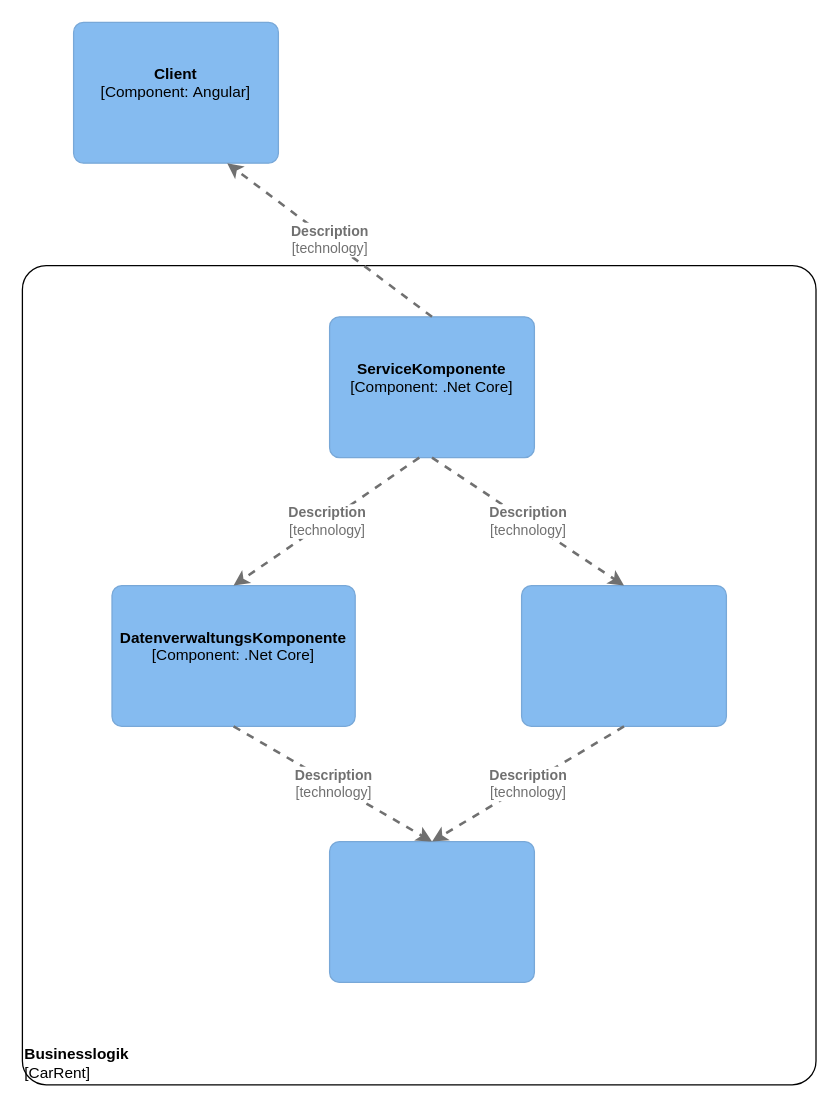
Some shapes in this 838 by 1107 pixel diagram are drawn without their labels. Each missing label, with the box of its shape:
DatenbankKomponente [Component: MySql ]: (328, 840, 534, 982)
ReservationsKomponente [Component: .Net Core ]: (520, 584, 726, 726)
